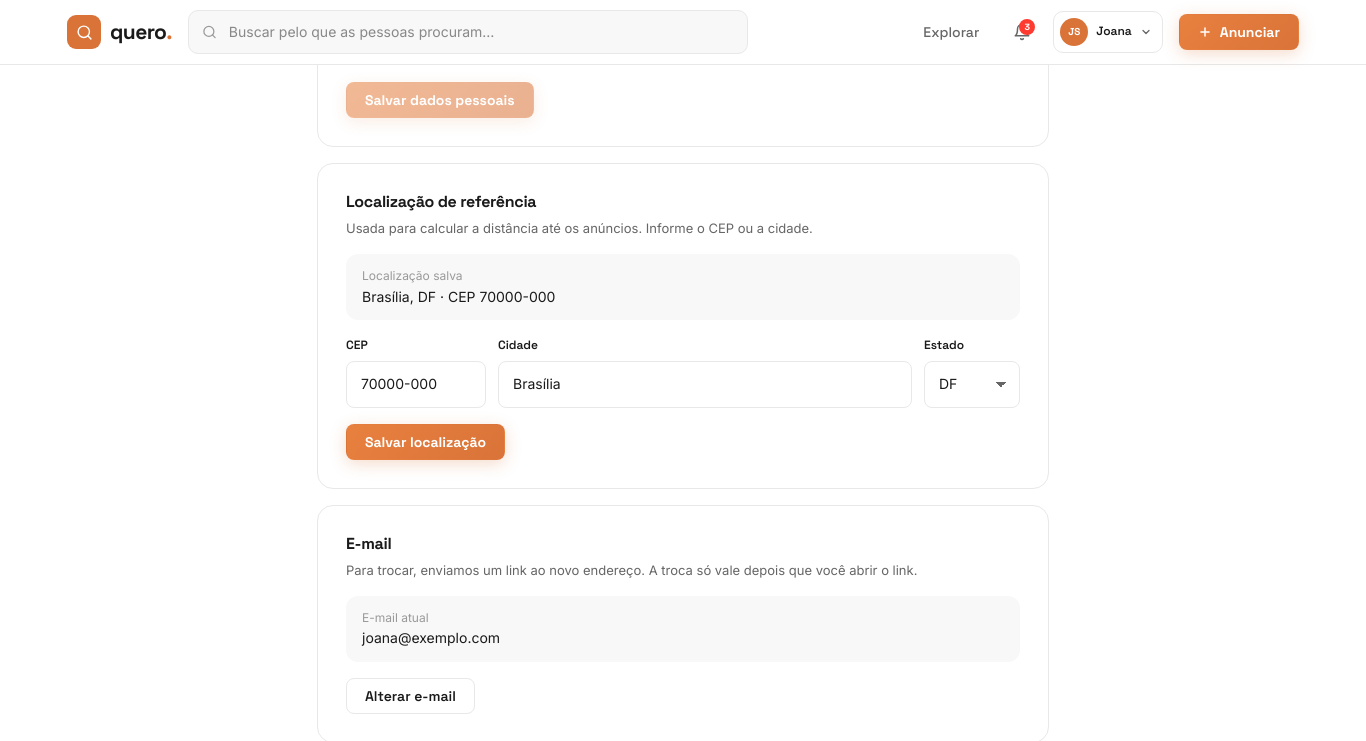
Scenario: perfil › informa falha de localização e mantém a localização anterior visível
(page scrolled)
Replace the text in the field labelled "CEP" with "99999-999" at (416, 384), box [346,361,486,408]
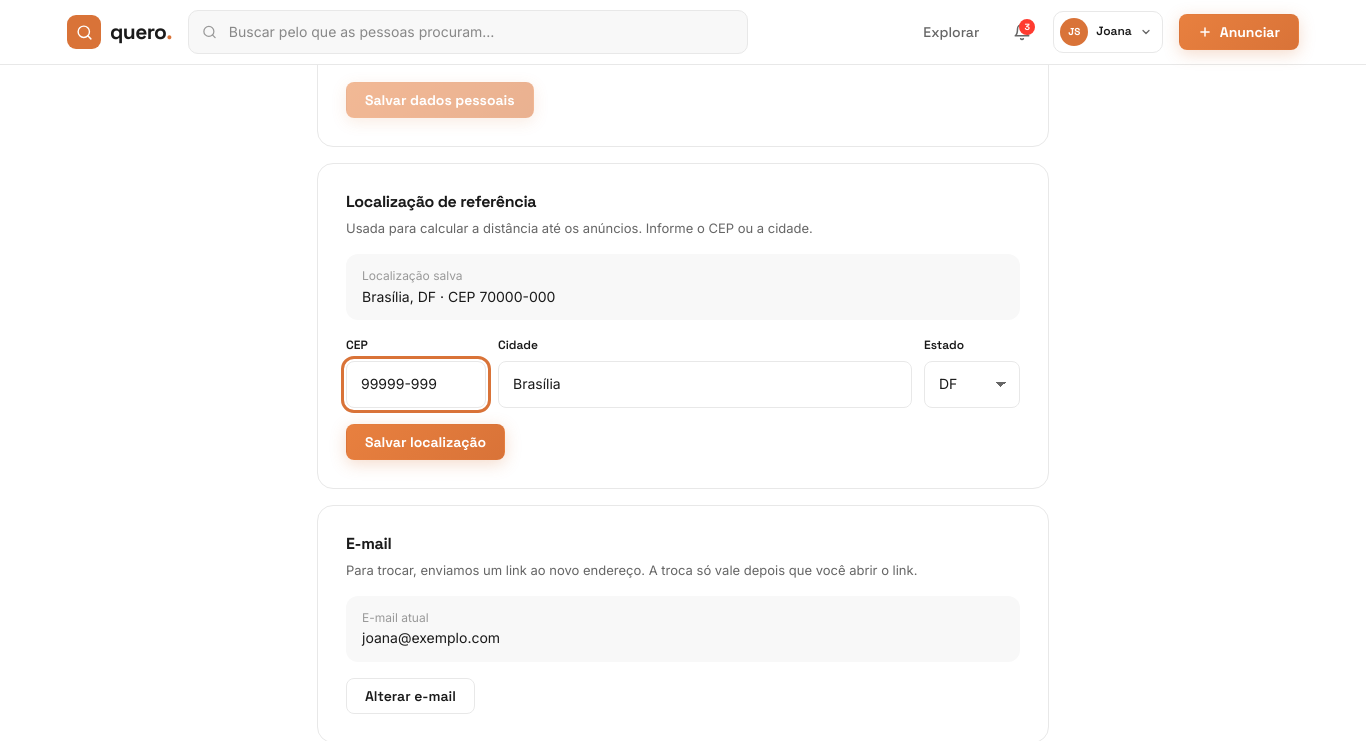
Click the button "Salvar localização" at (426, 442), box [346,424,505,460]
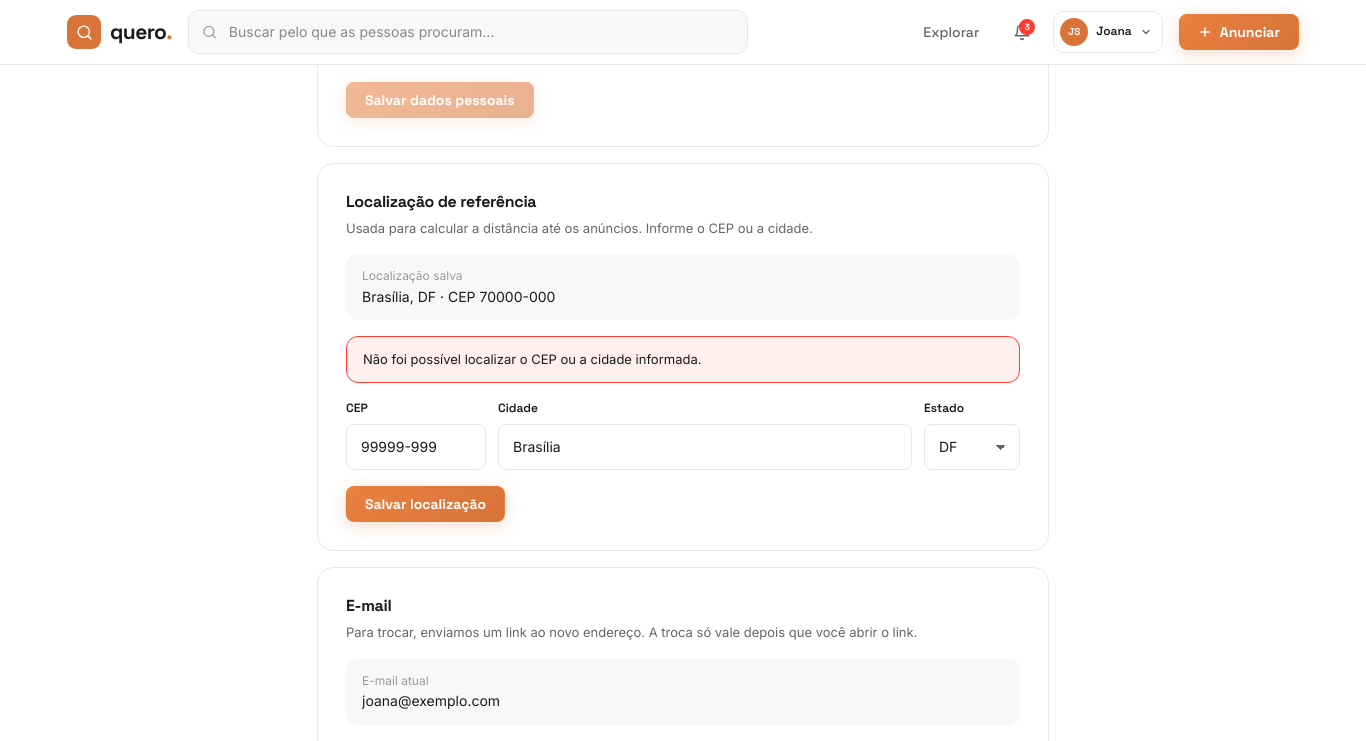
Expected: the text "Brasília, DF · CEP 70000-000" is shown, [362,288,556,304]
Expected: the message shows "Não foi possível localizar o CEP", [363,351,702,367]
